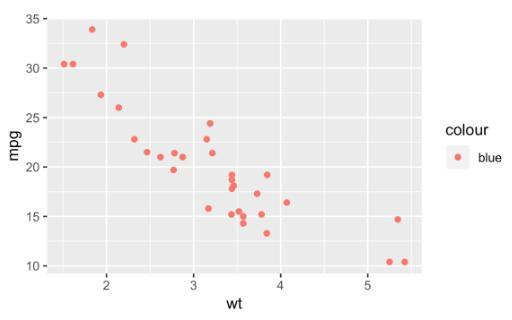axis: (41, 10, 52, 278), (41, 271, 425, 278)
point: (94, 88, 107, 101), (154, 151, 167, 164), (255, 208, 268, 221), (392, 213, 406, 225), (399, 254, 411, 268), (112, 100, 124, 113), (129, 132, 141, 145), (168, 163, 181, 175), (260, 228, 273, 240), (203, 202, 214, 216), (250, 189, 264, 200), (118, 40, 131, 51), (204, 118, 217, 129), (282, 196, 293, 209), (205, 148, 219, 158), (227, 183, 242, 192), (58, 58, 69, 70), (69, 58, 81, 69), (86, 23, 97, 35), (141, 146, 152, 158), (201, 134, 213, 145), (168, 147, 180, 158), (262, 168, 273, 180), (383, 255, 395, 266), (236, 220, 250, 229), (233, 205, 244, 216), (225, 177, 239, 185), (177, 152, 189, 161), (237, 211, 248, 220), (224, 210, 234, 219), (227, 170, 238, 178)
